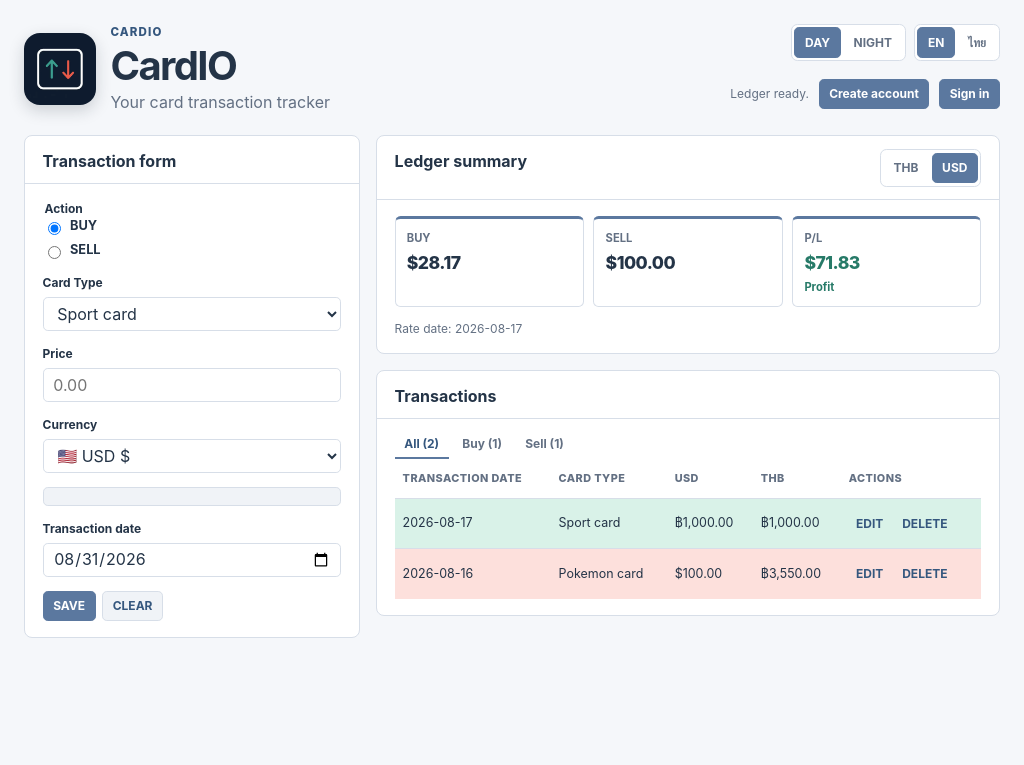
Test: App › warns before sign-in can replace an anonymous session with rows
Check: the heading "CardIO" is shown, box [110,41,236,90]
Click the button "Sign in": click(970, 94) [939,79,1000,109]
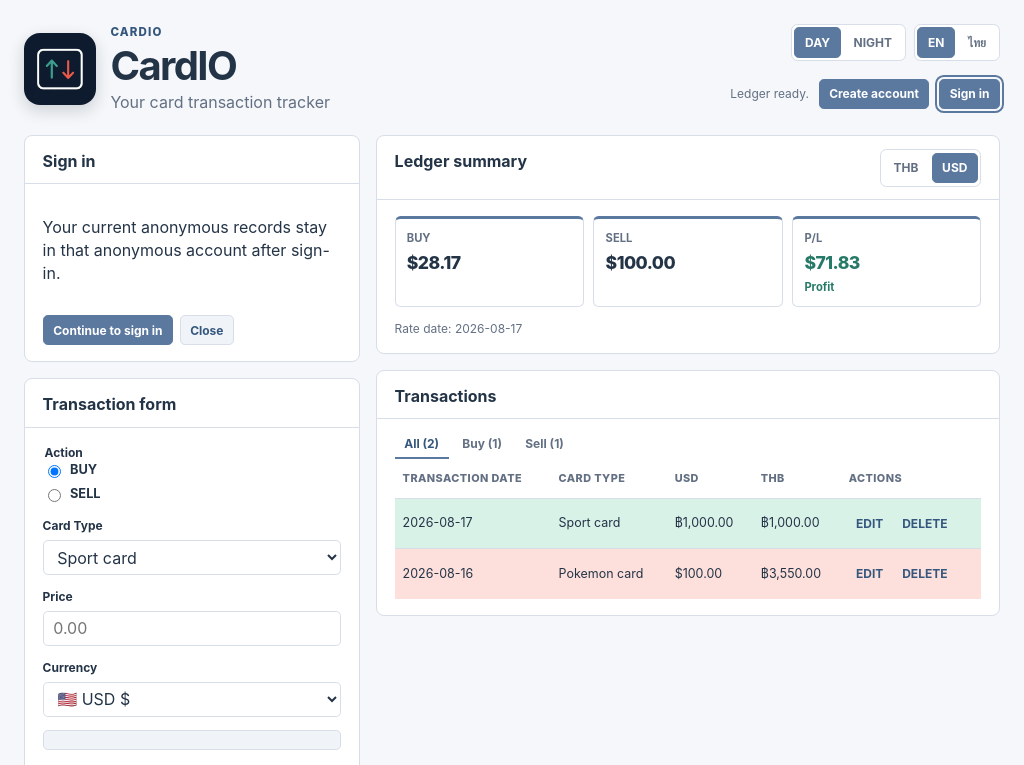
Check: the text "Your current anonymous records stay in that anonymous account after sign-in." is shown, box [43,216,341,286]
